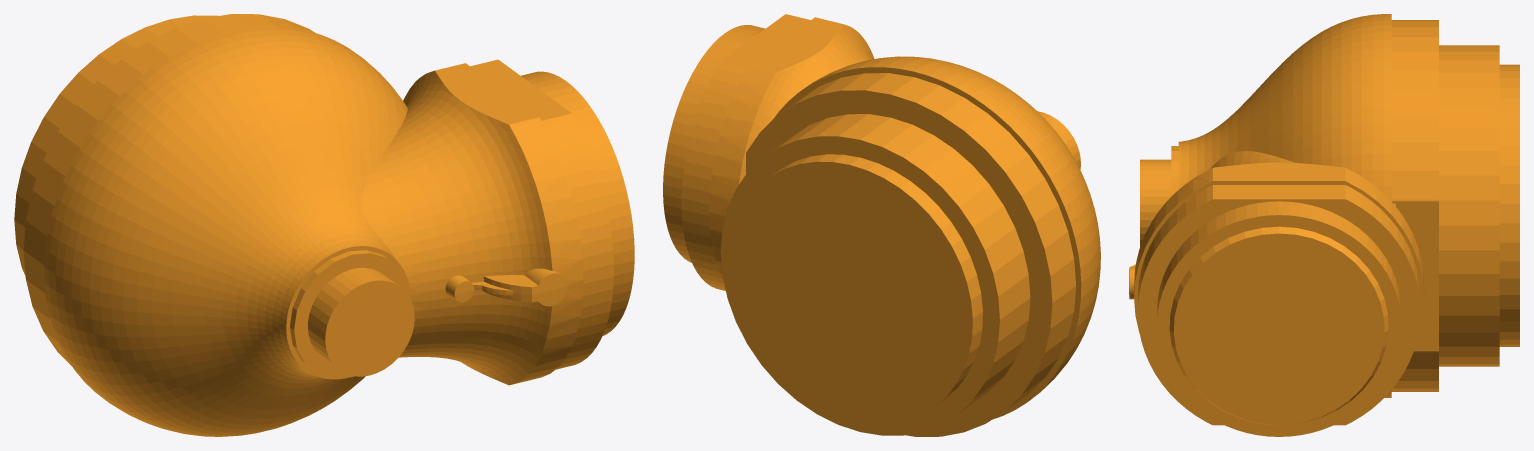
The model's file is KukaTitanLink5.dae.
3 views of the same model, side by side, from view 1: azimuth 30°, elevation 25°; view 2: azimuth 150°, elevation 25°; view 3: azimuth 270°, elevation 25° (orthographic). The views are drawn at different scales.
Parts seen in each view (by area): view 1: KUKATitanLink5; view 2: KUKATitanLink5; view 3: KUKATitanLink5.
Part boxes in pixels (box(x1,y1,x2,y2)): KUKATitanLink5: box(14, 14, 634, 436); KUKATitanLink5: box(663, 14, 1100, 436); KUKATitanLink5: box(1129, 14, 1519, 436).
Bounding box in the file's own units: 0.5727 × 0.4635 × 0.4552.
